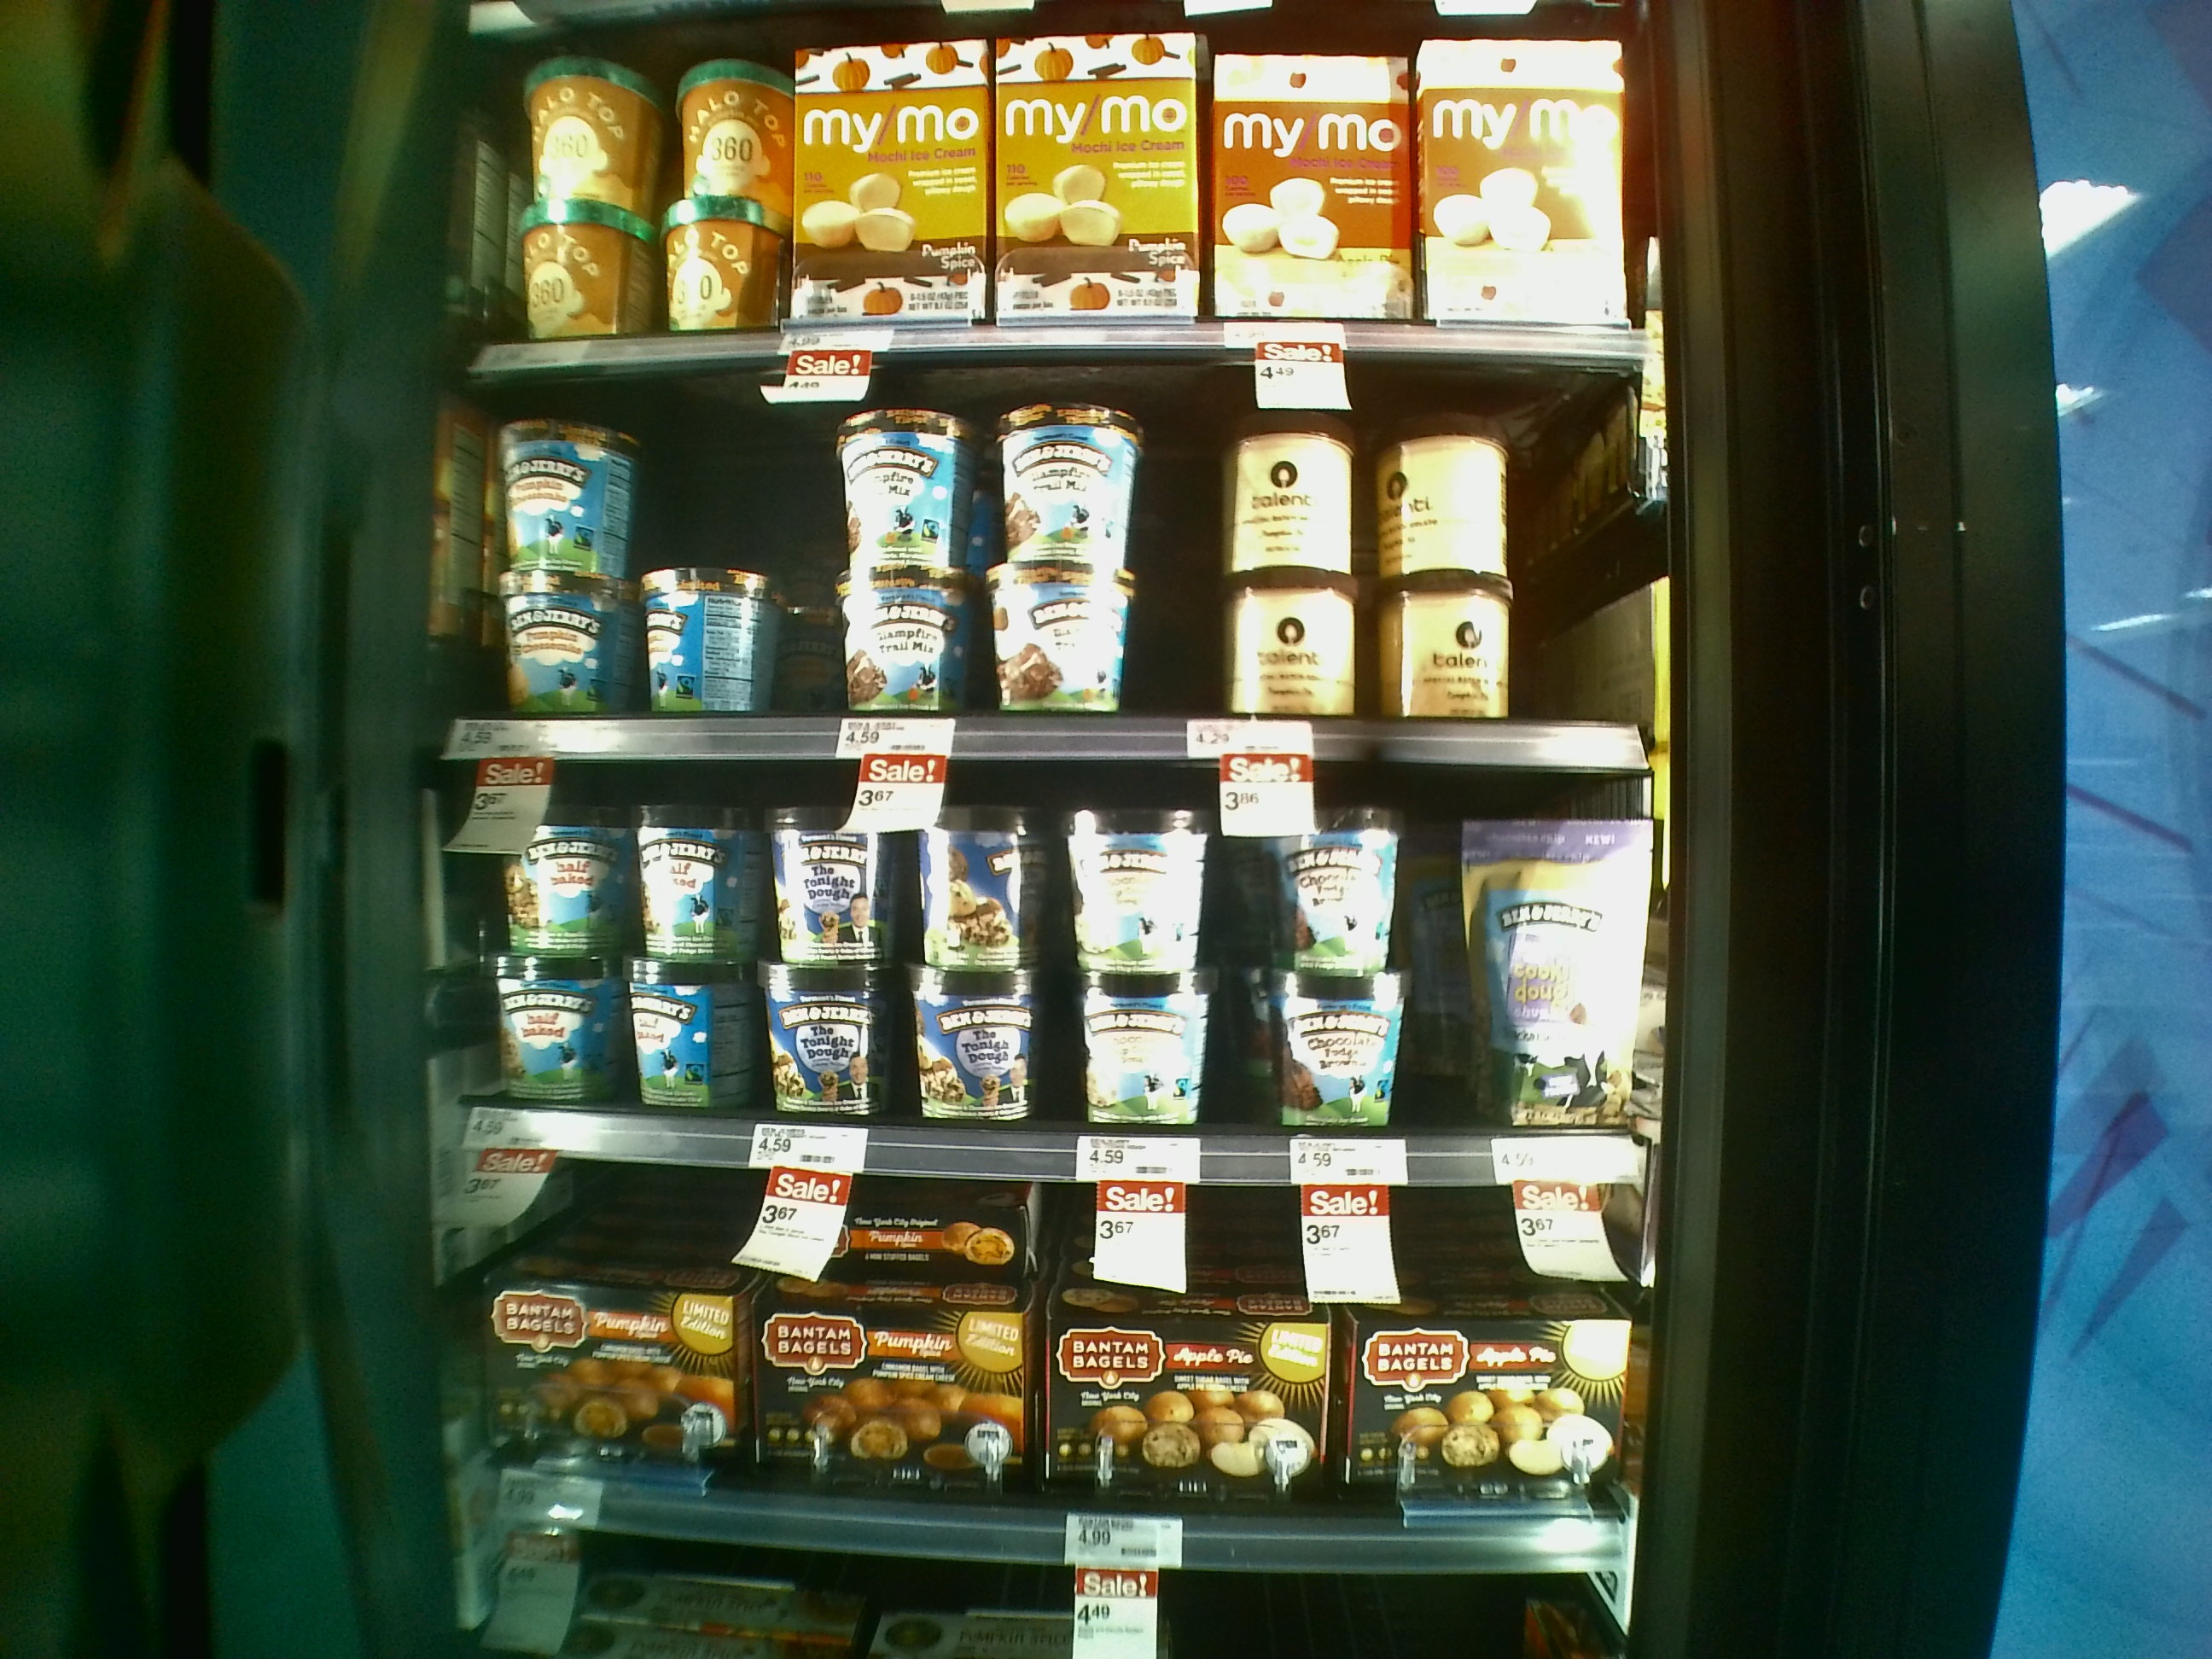shelf: (435, 1117, 1644, 1575), (446, 732, 1669, 1176), (455, 347, 1658, 755)
